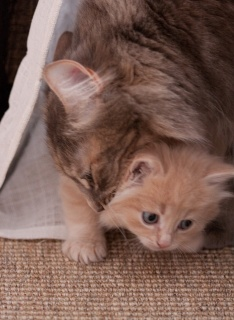Cat: (41, 0, 234, 243), (56, 139, 234, 269)
